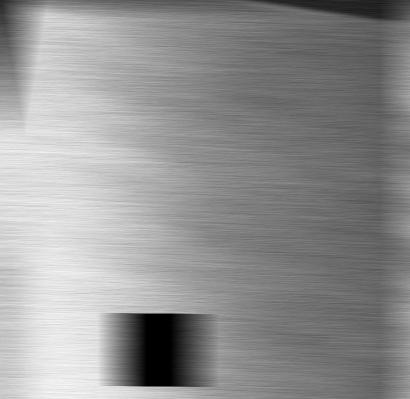Airbag: (0, 1, 410, 399), (398, 19, 410, 399)
